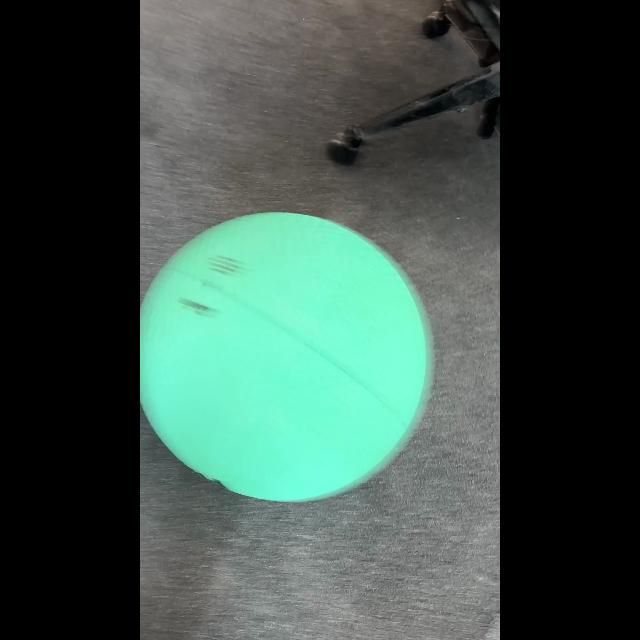ALGAE: (140, 210, 432, 502)
